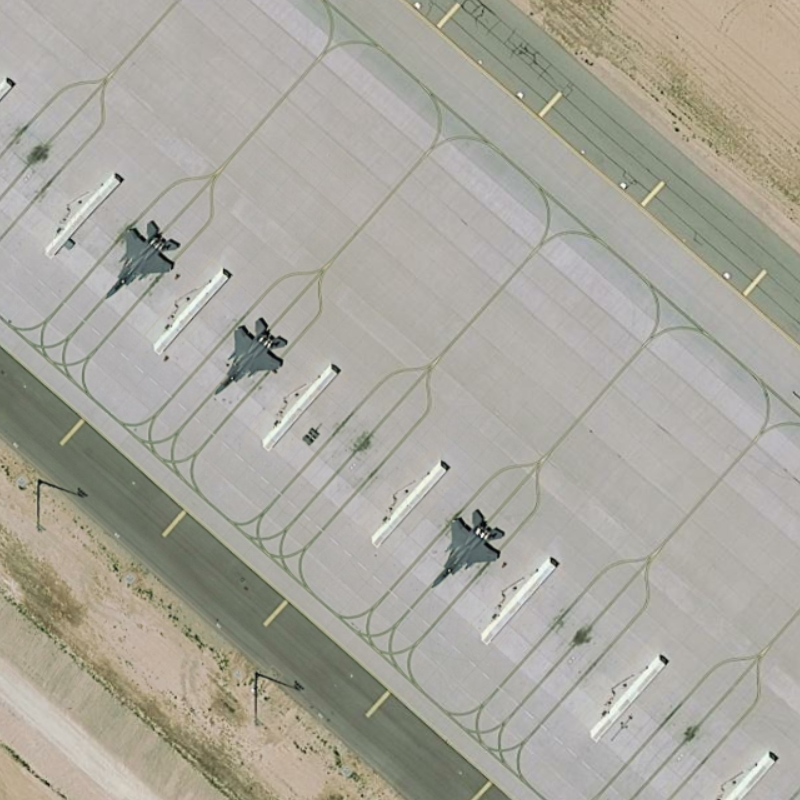A5: (95, 216, 192, 304), (210, 314, 293, 399), (427, 506, 507, 590)
